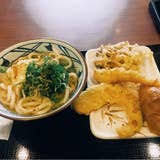pumpkin: (78, 85, 139, 136)
